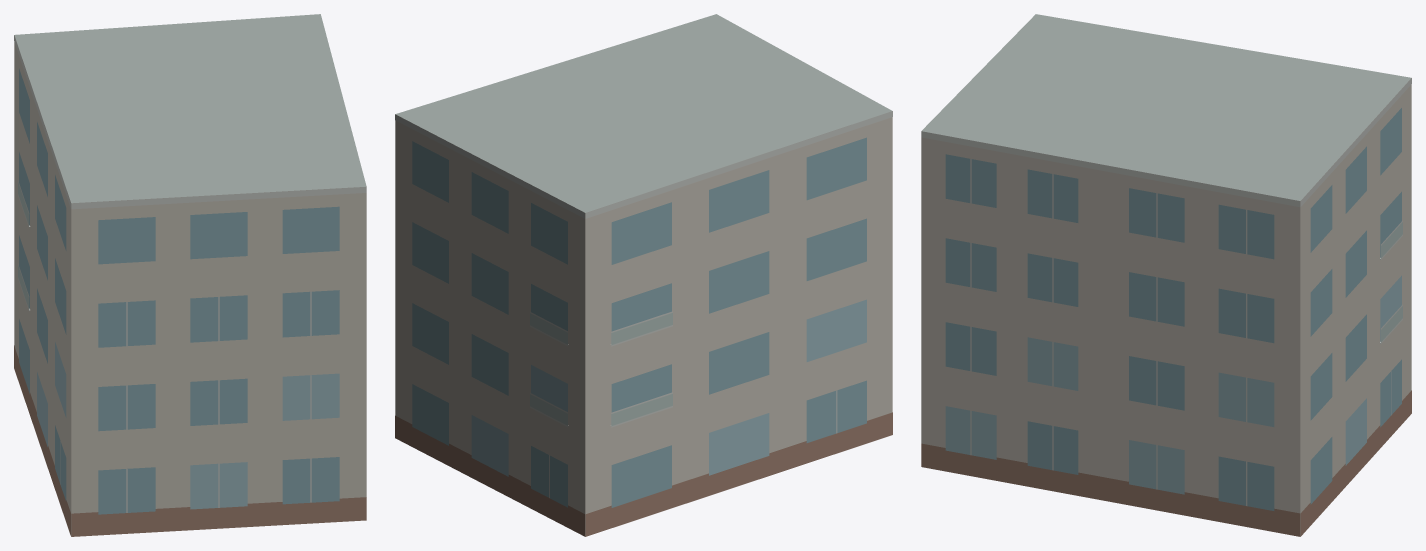
Rendered from survey-upis-32834745.glb.
3 renders of one model, left to right at view 1: azimuth 30°, elevation 25°; view 2: azimuth 150°, elevation 25°; view 3: azimuth 270°, elevation 25°, orthographic. The views are drawn at different scales.
Parts seen in each view (by area): view 1: survey-upis-32834745.tmp; view 2: survey-upis-32834745.tmp; view 3: survey-upis-32834745.tmp.
Boxes of the visible parts, x1=… form: survey-upis-32834745.tmp: x1=14, y1=14, x2=366, y2=536; survey-upis-32834745.tmp: x1=395, y1=14, x2=892, y2=536; survey-upis-32834745.tmp: x1=921, y1=14, x2=1411, y2=536.
Size of the model in its own units: 15.79 by 13.2 by 17.49.
